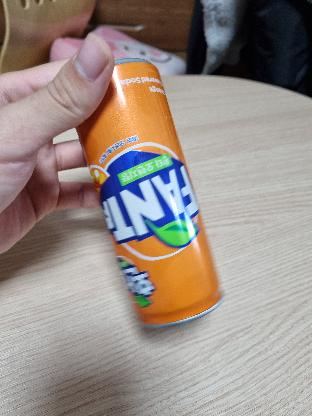Can: (86, 63, 222, 327)
